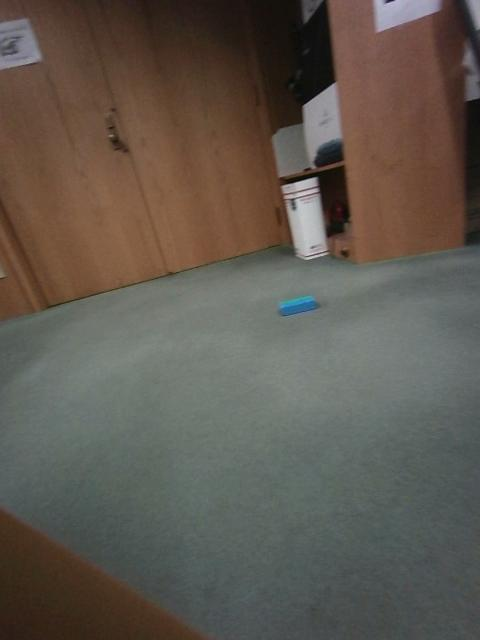block: (418, 275, 462, 320)
